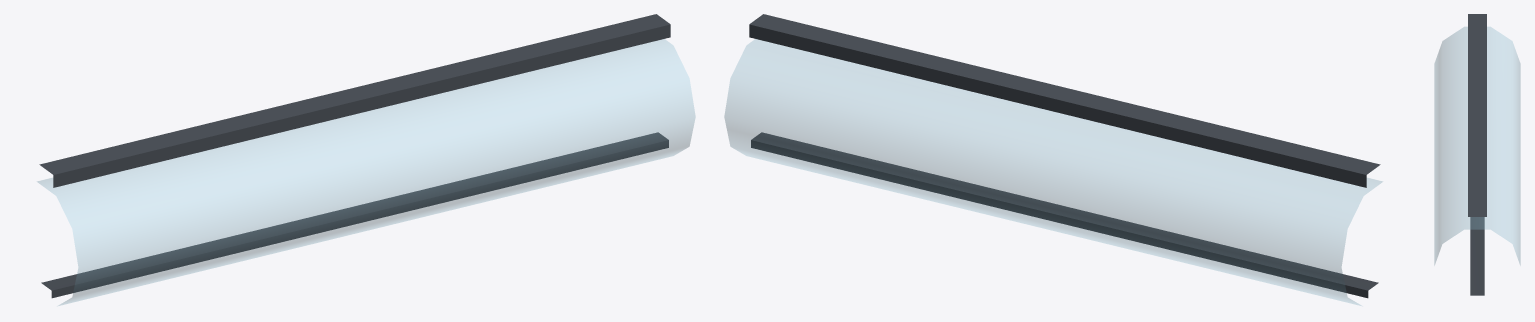
The model's file is transport_tube.glb.
3 views of the same model, side by side, from view 1: azimuth 30°, elevation 25°; view 2: azimuth 150°, elevation 25°; view 3: azimuth 270°, elevation 25° (orthographic). The views are drawn at different scales.
Visible parts, largest first — view 1: Roof; view 2: Roof; view 3: Roof.
Part boxes in pixels (x1,y1,x2,y2): Roof: [37, 14, 695, 305]; Roof: [724, 14, 1382, 305]; Roof: [1434, 14, 1520, 295].
Size of the model in its own units: 1 by 0.209 by 0.18.
